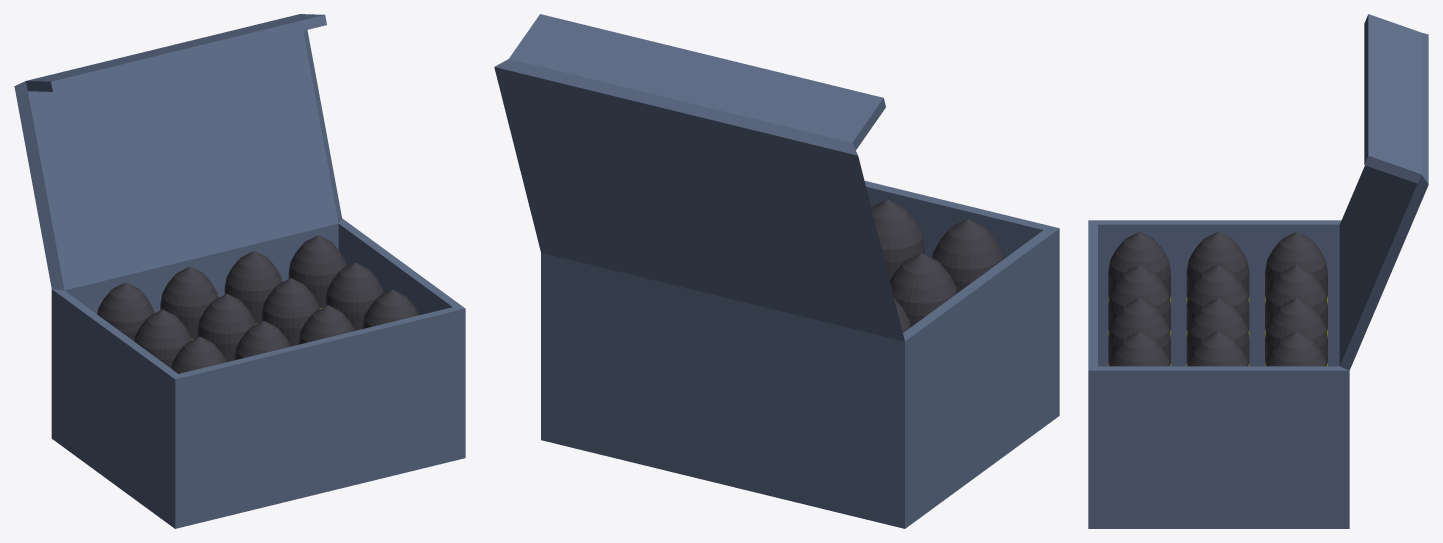
Rendered from PistolAmmoPickup.fbx.
3 views of the same model, side by side, from view 1: azimuth 30°, elevation 25°; view 2: azimuth 150°, elevation 25°; view 3: azimuth 270°, elevation 25° (orthographic). The views are drawn at different scales.
Visible parts, largest first — view 1: PistolAmmoPickup; view 2: PistolAmmoPickup; view 3: PistolAmmoPickup.
Boxes of the visible parts, <box> form: PistolAmmoPickup: <box>14,14,465,528</box>; PistolAmmoPickup: <box>494,14,1059,528</box>; PistolAmmoPickup: <box>1088,14,1428,528</box>.
Size of the model in its own units: 17.46 by 20.02 by 16.74.
